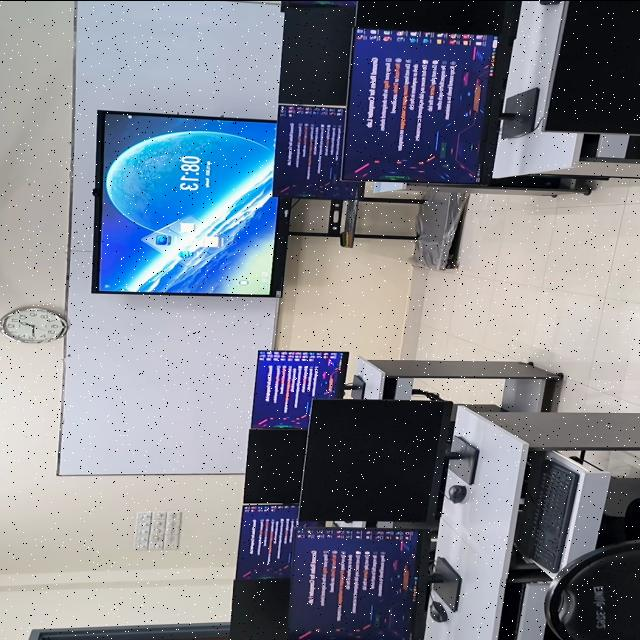Chair: (545, 538, 640, 640)
Digital board: (91, 110, 285, 296)
Keyboard: (515, 451, 579, 572)
Monitor: (344, 27, 499, 182), (300, 398, 454, 525), (290, 527, 419, 640), (546, 0, 640, 133), (273, 103, 359, 199), (279, 0, 355, 105), (251, 350, 349, 427), (357, 0, 506, 34), (243, 428, 307, 502), (236, 503, 297, 578), (230, 577, 289, 640), (289, 0, 355, 5), (431, 600, 445, 620)
Mouse: (447, 484, 467, 502)
